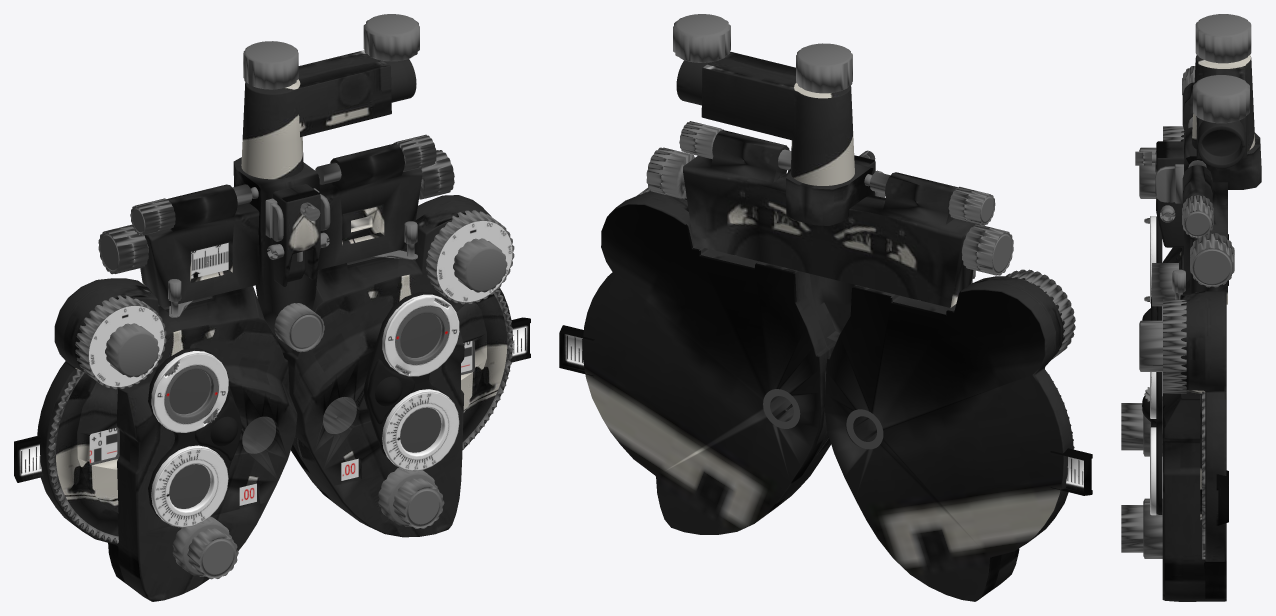
3 renders of one model, left to right at view 1: azimuth 30°, elevation 25°; view 2: azimuth 150°, elevation 25°; view 3: azimuth 270°, elevation 25°, orthographic. The views are drawn at different scales.
Visible parts, largest first — view 1: Body, Accesory, Labels, LentsFrame, Lents; view 2: Body, Accesory, Labels; view 3: Body, Accesory, Labels, LentsFrame.
Part boxes in pixels (x1,y1,x2,y2): Body: (37,50,512,601); Accesory: (47,14,514,579); Labels: (14,221,530,527); LentsFrame: (148,292,448,518); Lents: (90,216,474,509); Body: (582,51,1073,601); Accesory: (637,14,1075,449); Labels: (559,325,1092,495); Body: (1156,55,1261,601); Accesory: (1121,14,1251,559); Labels: (1150,216,1228,525); LentsFrame: (1142,216,1162,514).
Size of the model in its own units: 0.1978 by 0.1826 by 0.0461.
Materials: 5 (2 with a texture image).
